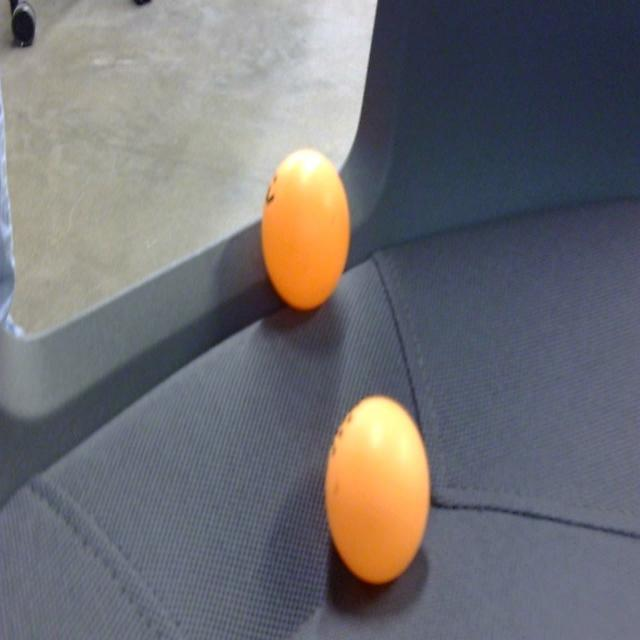ball: (325, 392, 431, 588), (260, 149, 352, 313)
